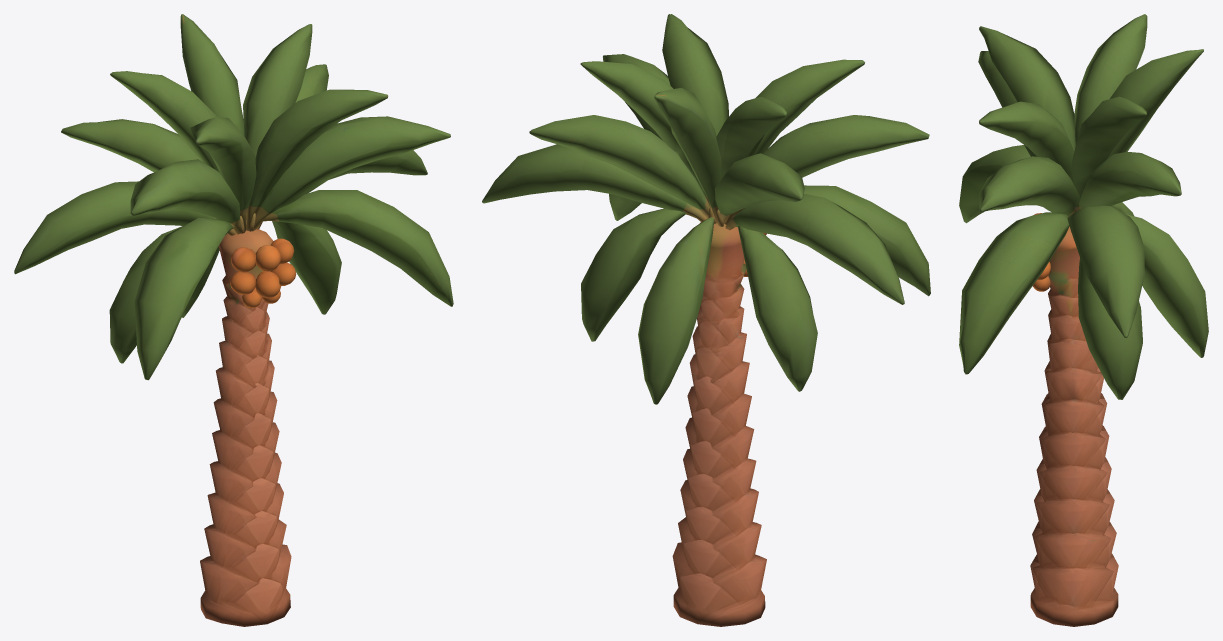
Rendered from vegetation_cluster.glb.
3 views of the same model, side by side, from view 1: azimuth 30°, elevation 25°; view 2: azimuth 150°, elevation 25°; view 3: azimuth 270°, elevation 25° (orthographic). The views are drawn at different scales.
Size of the model in its own units: 0.7891 by 1 by 0.4062.
Materials: 1 (1 with a texture image).
